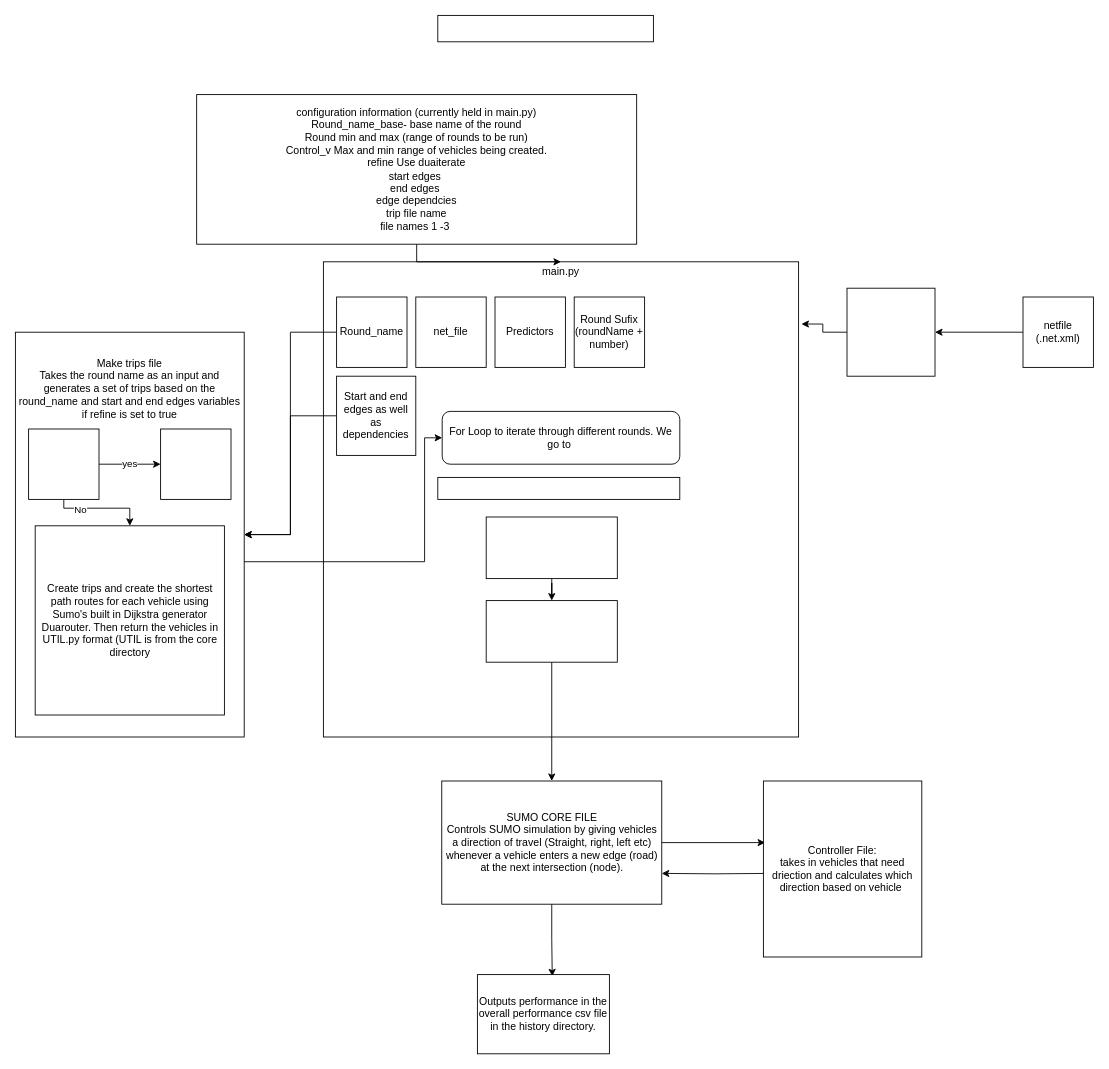
Image size: 1109x1069. Some labels were removed from this diagram. Here are the shapes that lost their labels. From the top down, the box of each, then its label:
(437, 15, 653, 42): DUE-STR from the 2022 RTAS WIP paper
(846, 287, 935, 376): My Sumo COnfig .sumocfg
(28, 428, 99, 499): Reading if Round_name exists
(160, 428, 231, 499): Read information from file and return vehicles
(437, 477, 680, 499): 2 functions:
(485, 516, 617, 579): 1st: sets the scheduling algorithm
(485, 600, 617, 662): 2nd: takes the alogrithm and starts SUMO
